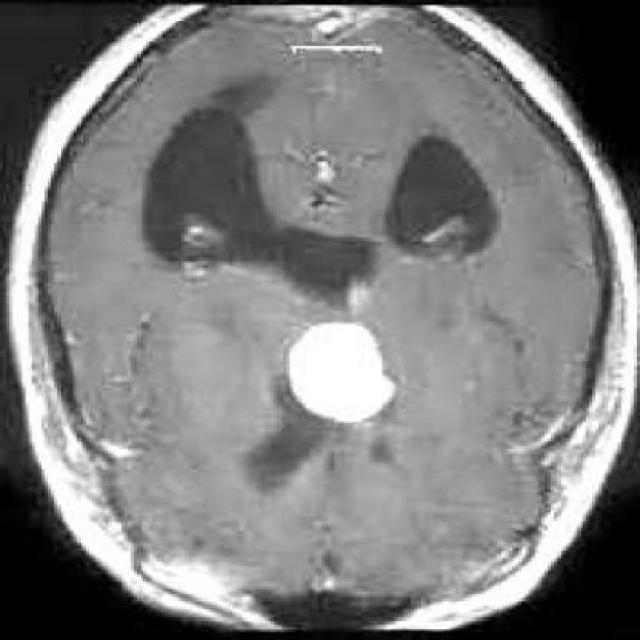Brain-Tumor: (275, 309, 416, 440)
